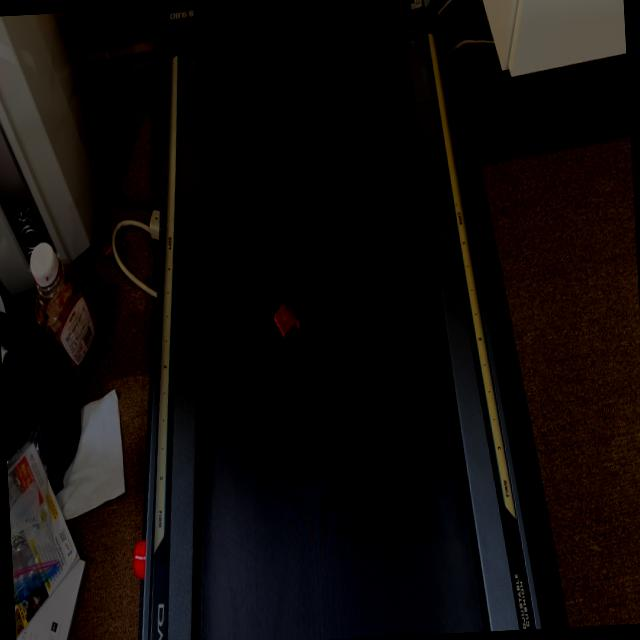Recycle: (272, 298, 302, 345)
